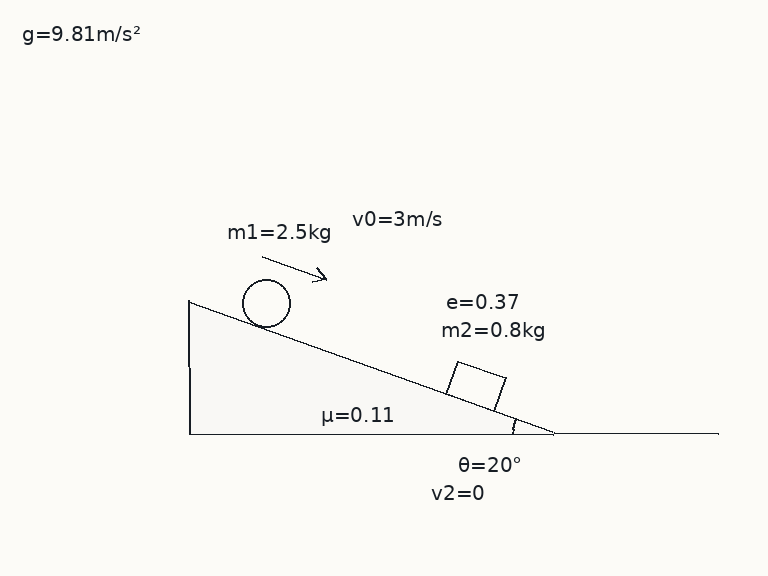ball: (240, 277, 292, 329)
block: (445, 359, 507, 413)
ramp: (186, 298, 555, 435)
